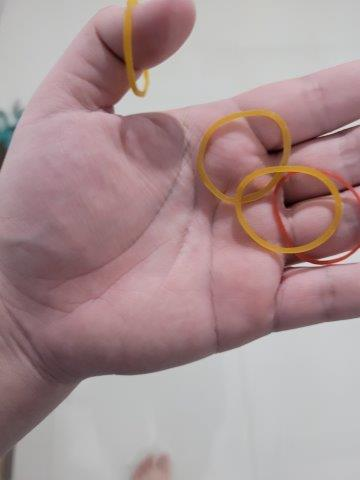karet: (195, 109, 289, 208), (236, 168, 344, 254), (275, 169, 360, 267), (123, 2, 151, 97)
